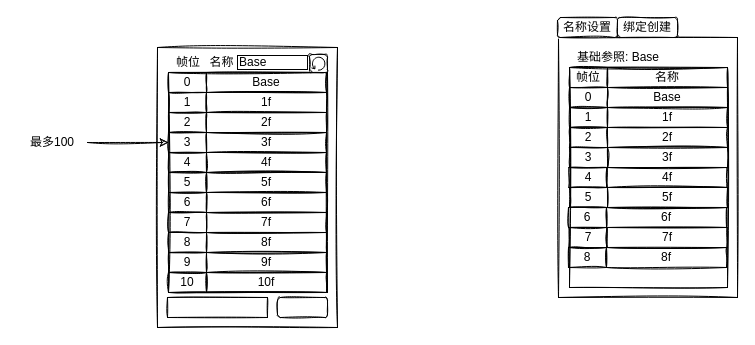
Some shapes in this 755 by 345 pixel diagram are drawn without their labels. Here are the shapes that lost their labels. From the top down, the centre of each, then its label:
the point at 217,307: Test
the point at 302,307: 创建绑定
